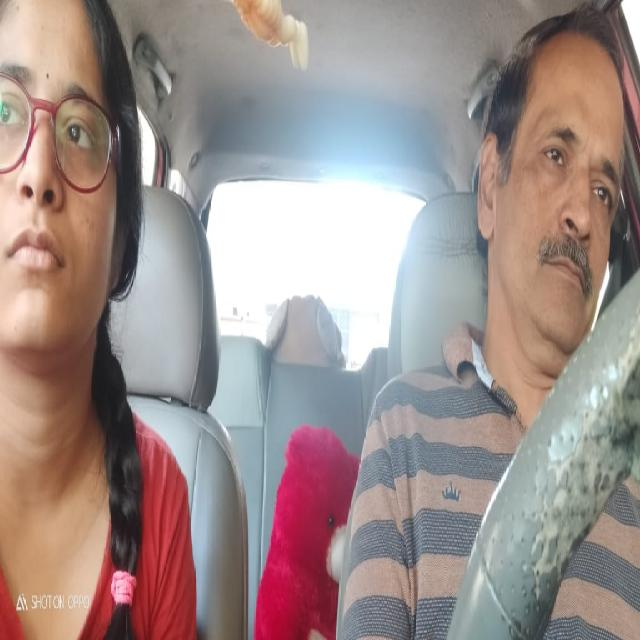person: (465, 15, 635, 375), (1, 0, 140, 392)
